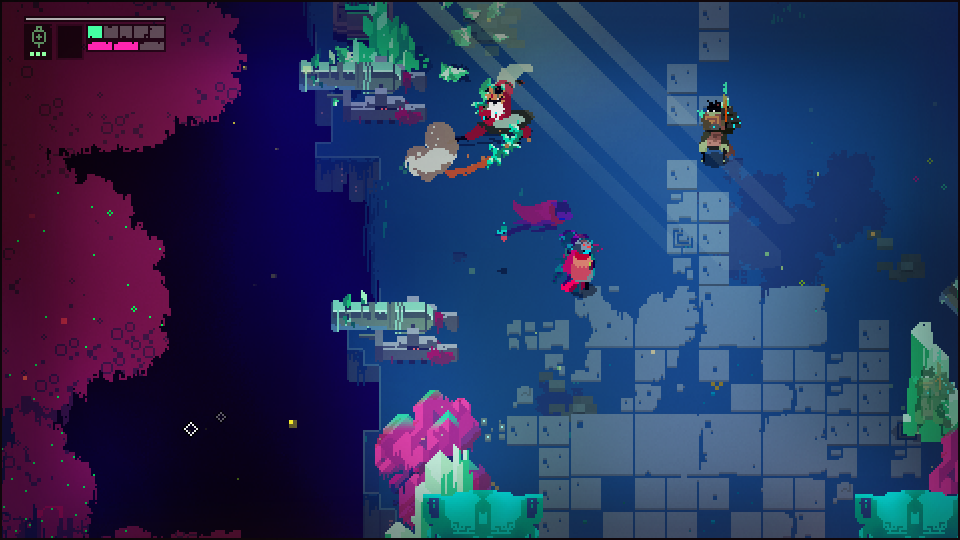hanged_man: (462, 59, 540, 164)
player: (568, 236, 593, 292)
